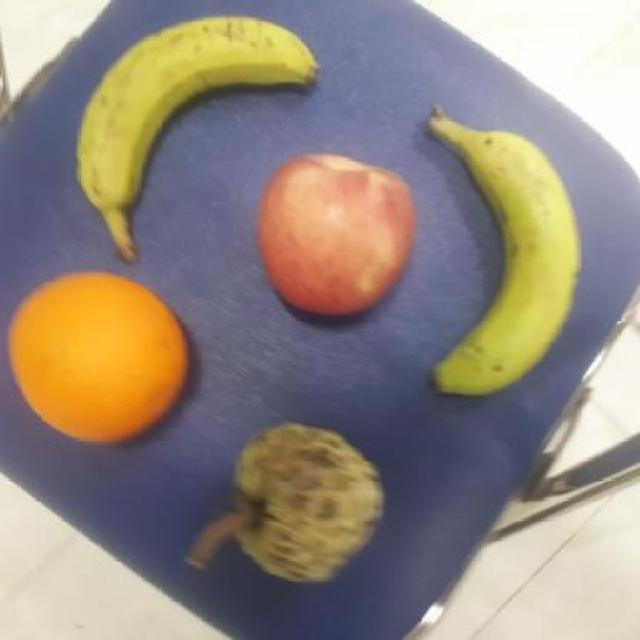apple: (254, 151, 420, 323)
banana: (72, 13, 316, 258), (428, 109, 592, 393)
oren: (3, 269, 195, 446)
sugar apple: (233, 418, 389, 584)
